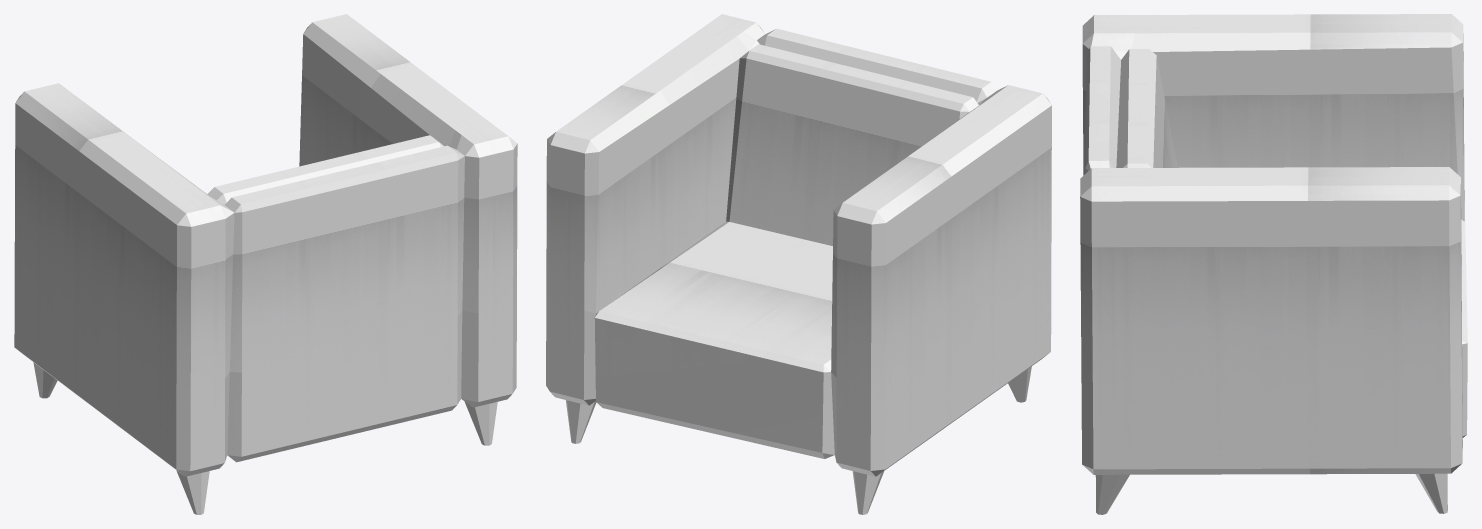
File: fotel.fbx
3 views of the same model, side by side, from view 1: azimuth 30°, elevation 25°; view 2: azimuth 150°, elevation 25°; view 3: azimuth 270°, elevation 25° (orthographic). The views are drawn at different scales.
Parts seen in each view (by area): view 1: fotel01_001; view 2: fotel01_001; view 3: fotel01_001.
Part boxes in pixels (x1,y1,x2,y2): fotel01_001: [14, 14, 517, 514]; fotel01_001: [546, 14, 1051, 514]; fotel01_001: [1080, 14, 1467, 514].
Size of the model in its own units: 1.08 by 0.9351 by 0.9734.
1 material, 1 textured.
